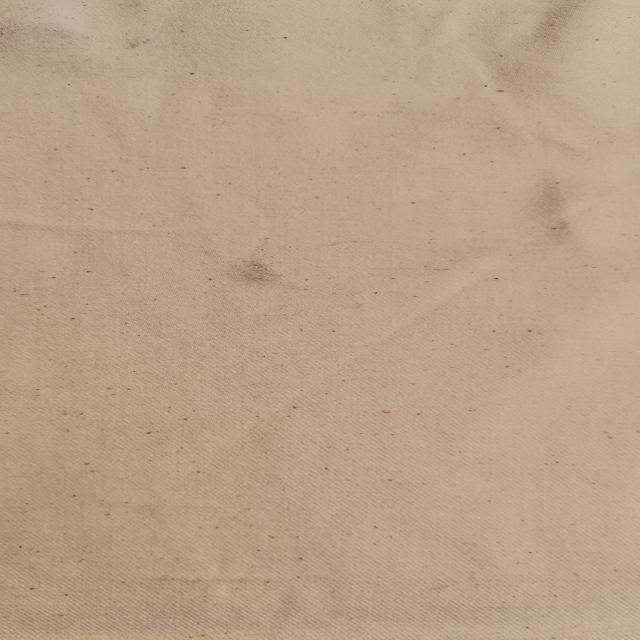taaaches: (214, 250, 290, 289), (528, 185, 572, 237)
